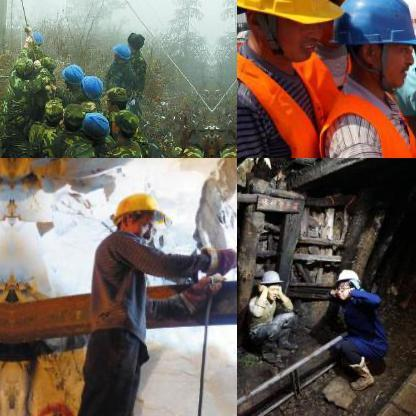Helmet: (237, 0, 342, 67), (338, 0, 415, 84), (102, 184, 164, 242), (306, 0, 372, 48), (76, 111, 108, 141), (78, 75, 104, 105), (332, 266, 358, 294), (258, 268, 282, 296), (109, 41, 129, 69), (61, 64, 84, 86), (24, 28, 44, 48)
